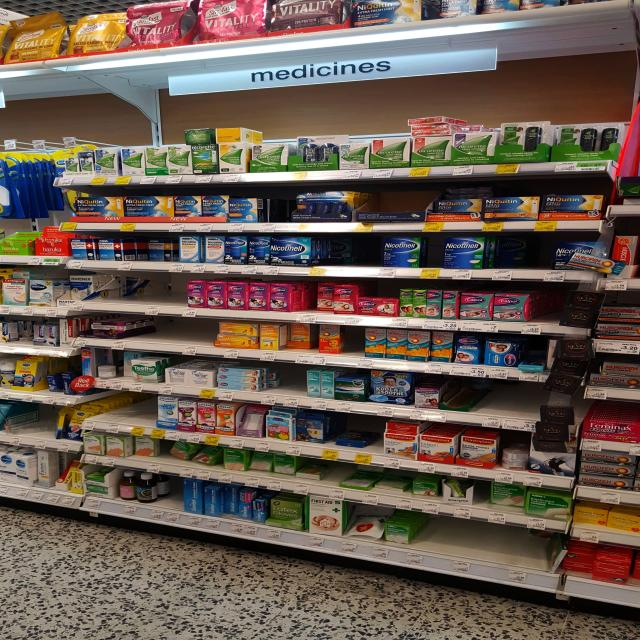empty_space: (439, 529, 549, 559), (480, 379, 540, 413), (157, 319, 207, 341), (511, 238, 543, 272), (376, 191, 424, 209), (123, 394, 154, 420), (147, 279, 183, 301), (350, 241, 375, 263)
